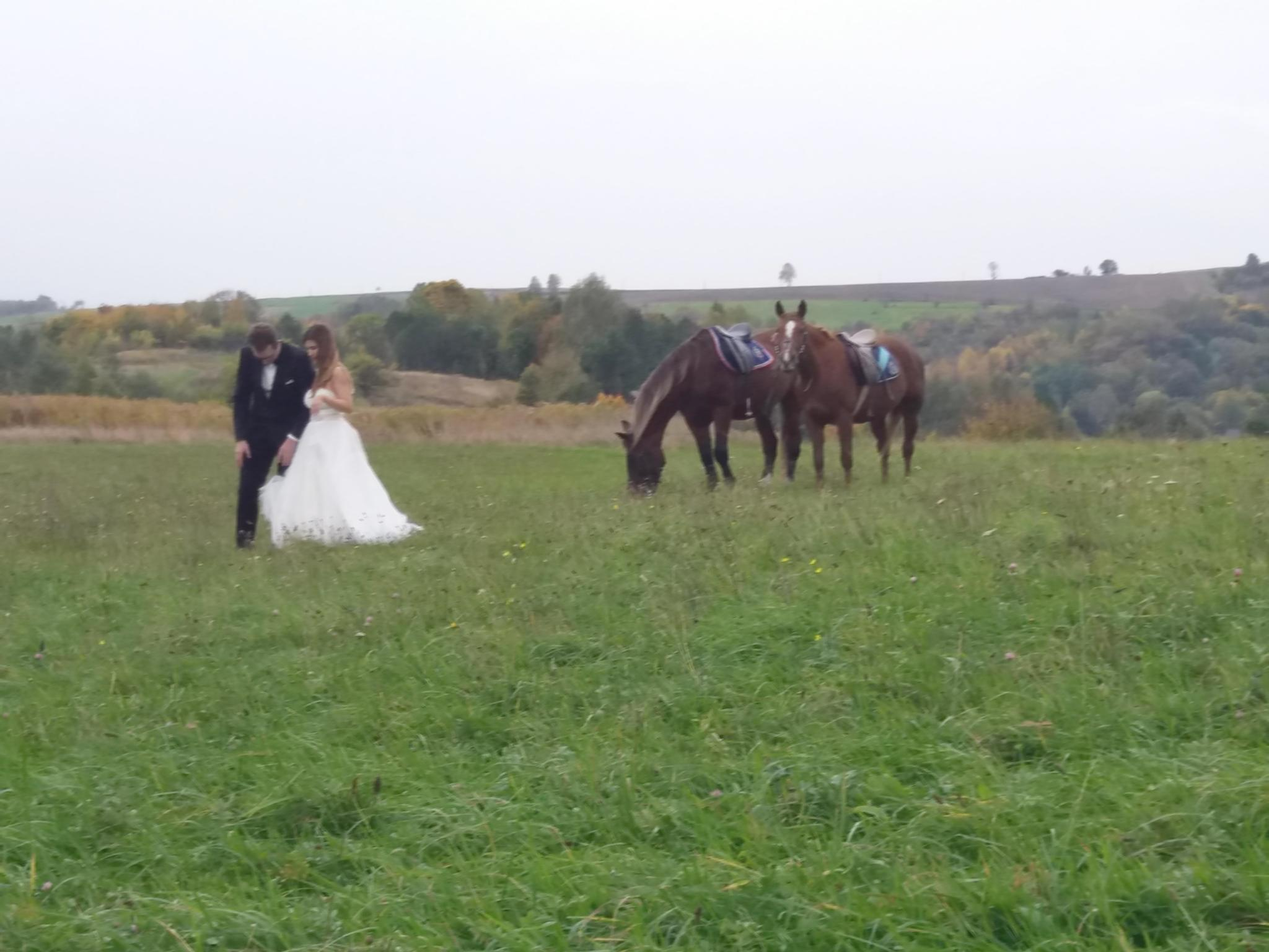horse: (614, 321, 807, 499), (772, 298, 925, 489)
